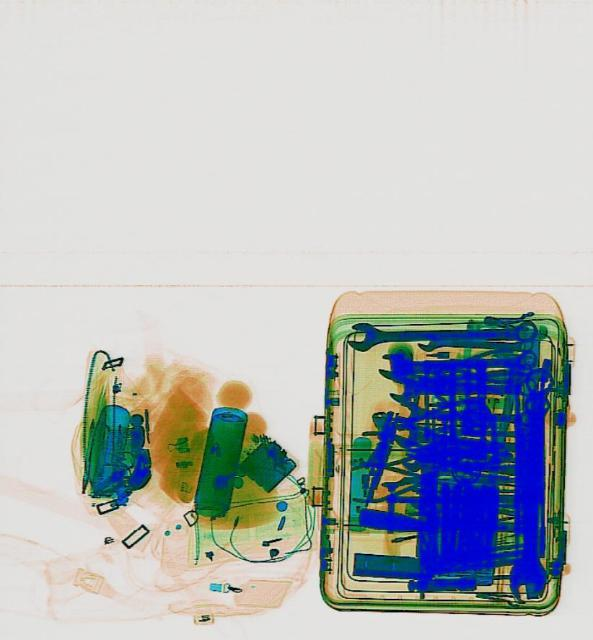Pliers: (352, 459, 441, 508), (357, 428, 436, 472)
Wrench: (507, 390, 555, 600), (348, 317, 535, 351), (375, 345, 536, 381)
